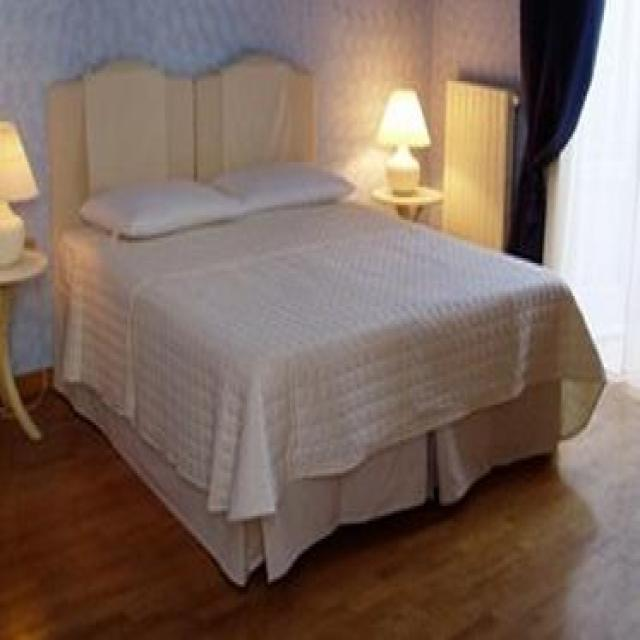bed: (44, 52, 576, 602)
